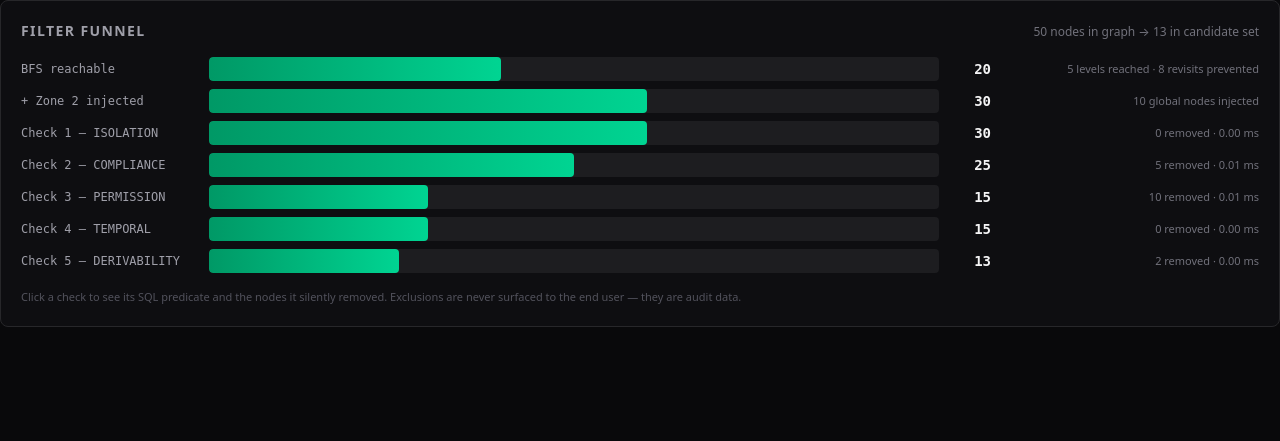
Test: FilterFunnel › expands a check row on click to show SQL and exclusions
Note: Click on Check 2 — COMPLIANCE (has exclusions)
Click the text "Check 2 — COMPLIANCE": click(93, 165) [21,158,166,172]
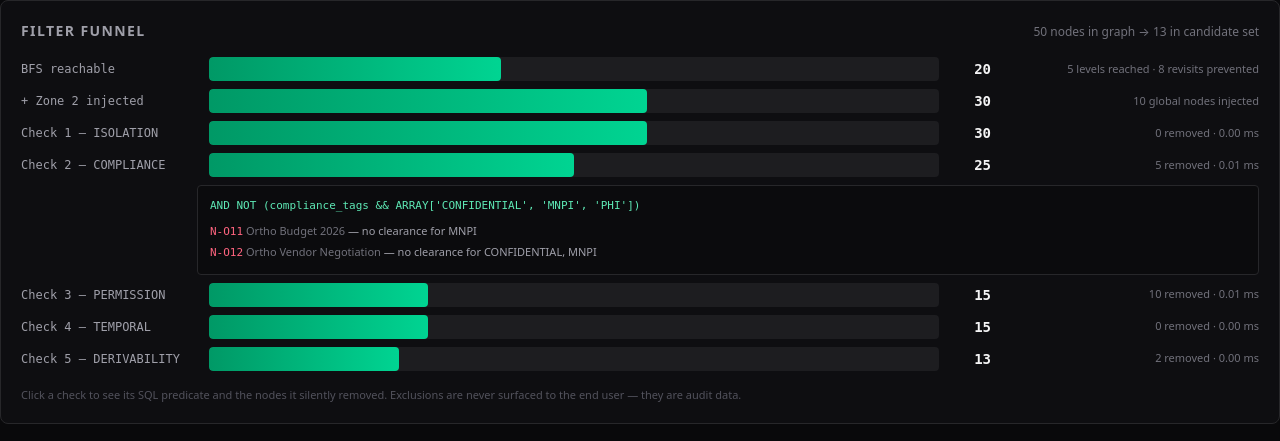
Check: the text "compliance_tags" is shown, box [210,199,640,212]
Check: the text "N-O11" is shown, box [210,224,243,238]
Check: the text "N-O12" is shown, box [210,246,243,259]
